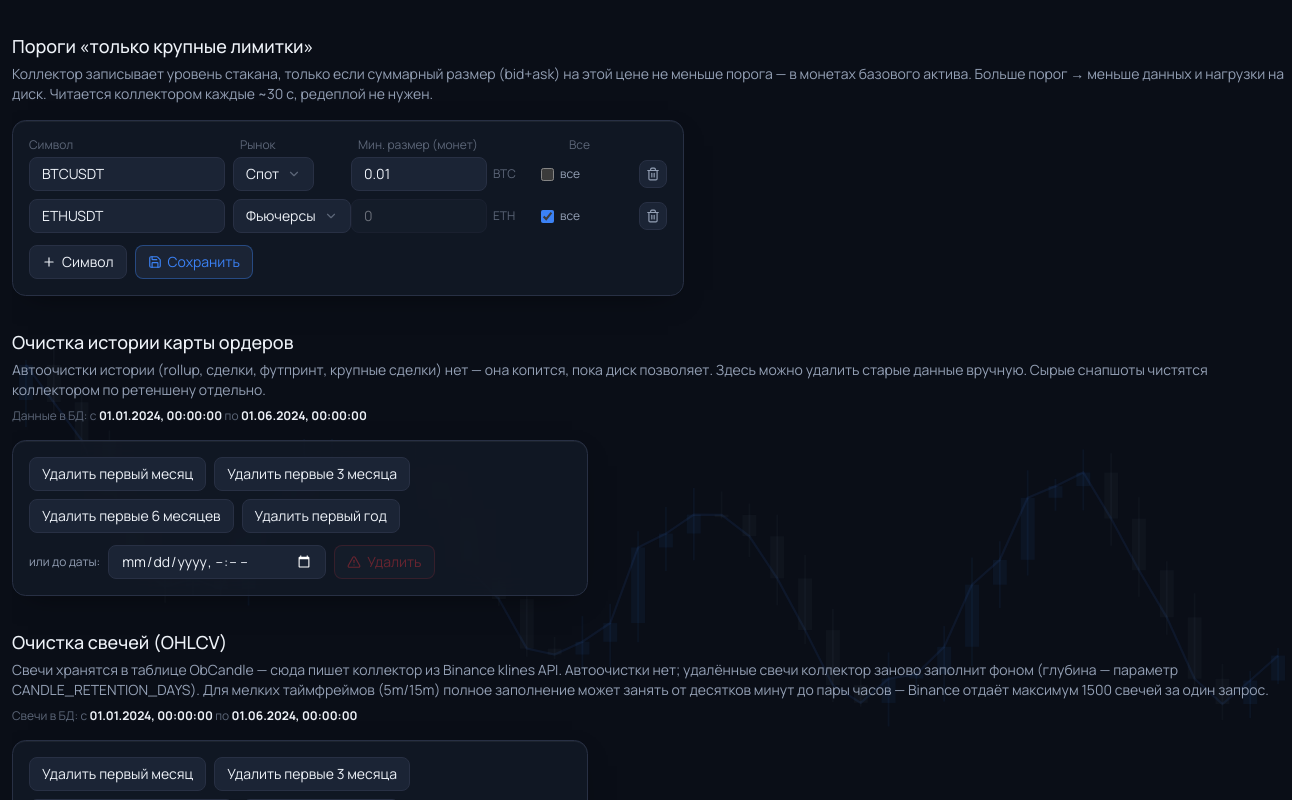
AdminCollectorConfig › adds a new empty row on click
The image size is (1292, 800).
Expected: the field showing "BTCUSDT" in the row of "BTC" is shown, [29, 157, 225, 191]
Step 1. Click the button "Символ" → click(78, 262), box [29, 245, 126, 279]
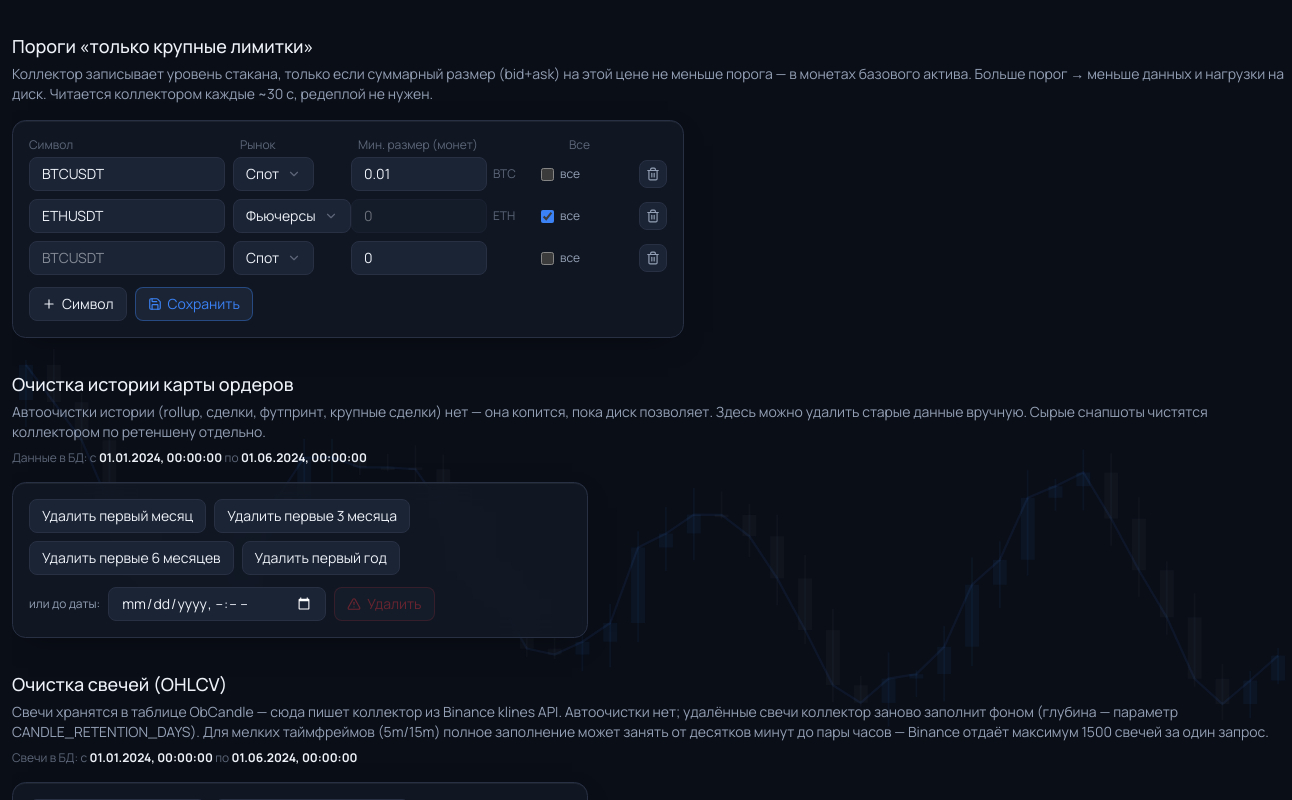
Expected: the number of fields with placeholder "BTCUSDT" is 3, [29, 157, 225, 191]; [29, 199, 225, 233]; [29, 241, 225, 275]
